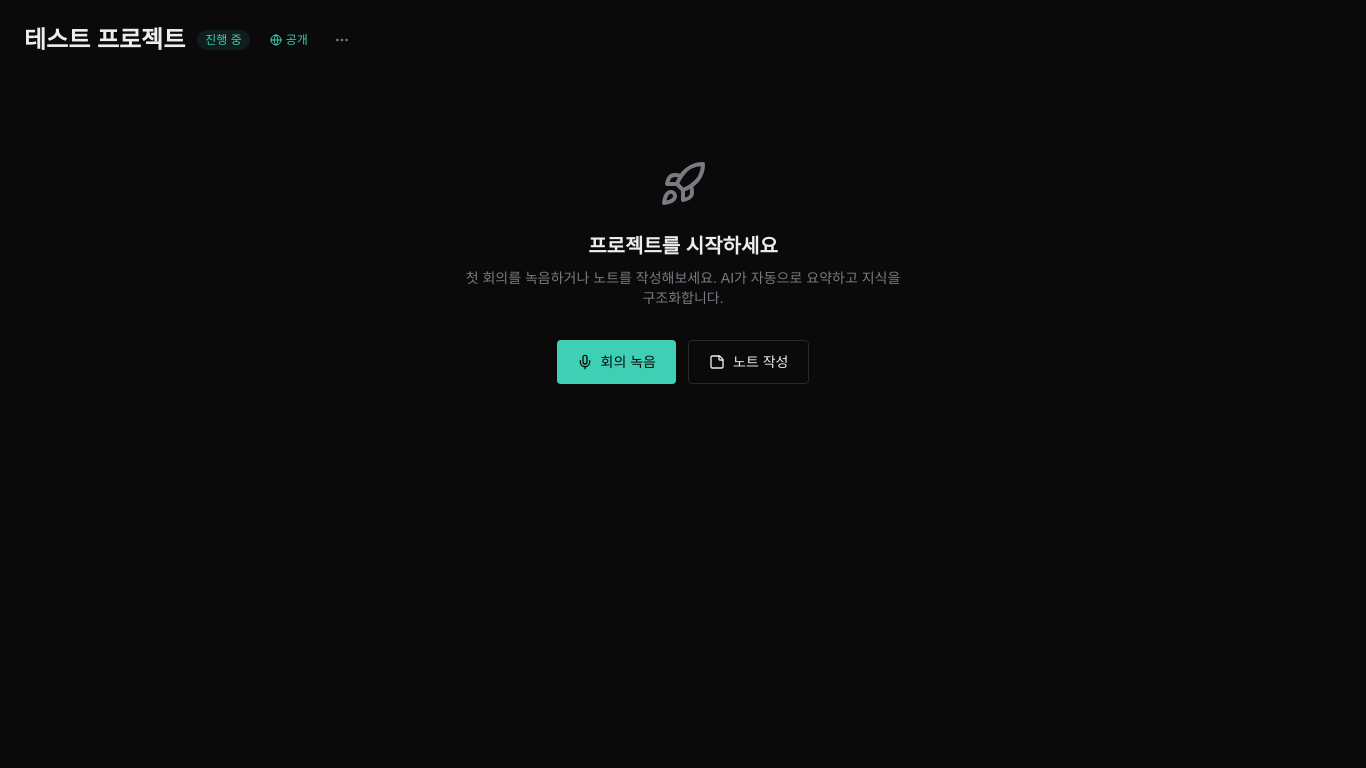
Test: ProjectDashboard — 온보딩 게이트 › 콘텐츠가 없는 온보딩 상태에서 visibility 배지를 클릭하면 VisibilityChangeDialog가 열린다
Expected: the heading "프로젝트를 시작하세요" is shown, [588, 232, 778, 260]
Click the button with aria-label "Visibility: 공개" at x=289, y=40, box [262, 30, 316, 50]
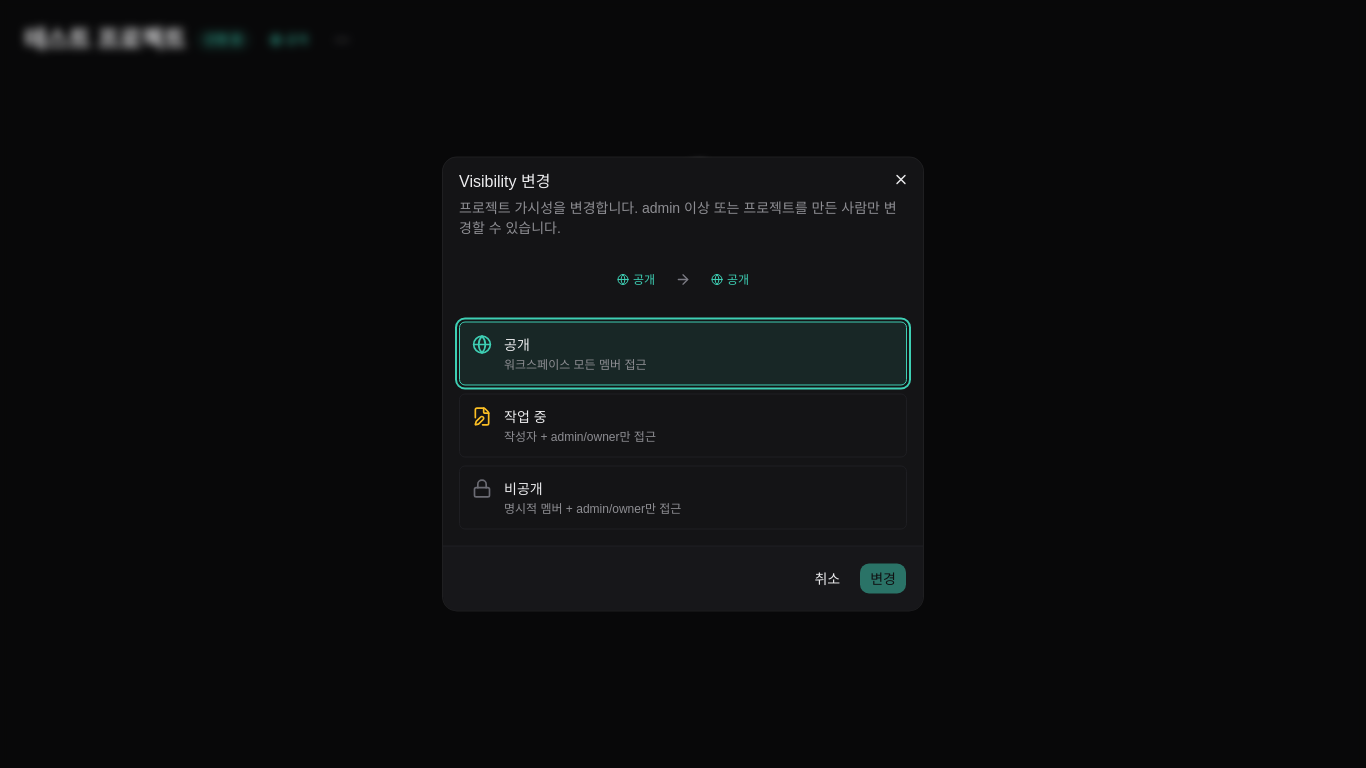
Now the dialog is shown, box [443, 158, 923, 610]
Now the heading "Visibility 변경" is shown, box [459, 172, 550, 190]
